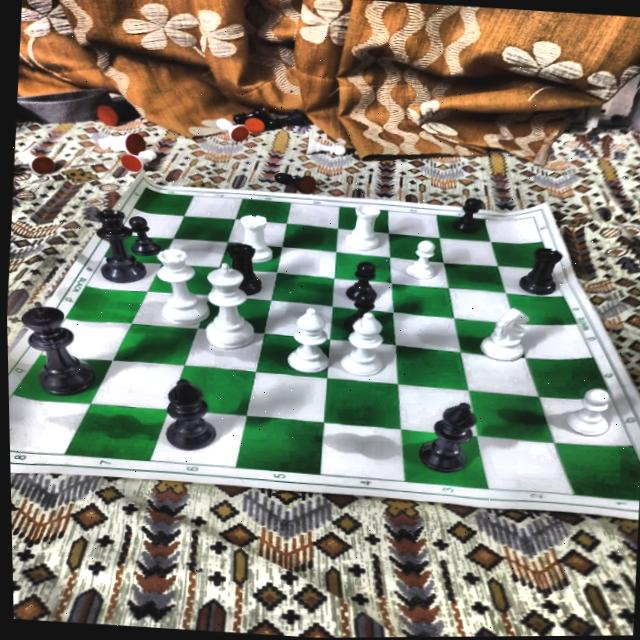BlackBishop: (415, 399, 478, 475), (161, 375, 222, 453)
BlackKing: (17, 300, 103, 399)
BlackPawn: (342, 290, 383, 335), (127, 214, 163, 257), (344, 260, 379, 302), (451, 195, 482, 234)
BlackQueen: (89, 207, 152, 285)
BlackRook: (221, 241, 265, 296), (518, 246, 564, 297)
WhiteBishop: (284, 305, 333, 374), (338, 310, 388, 377)
WhiteKing: (199, 259, 260, 351)
WhiteKnight: (477, 304, 530, 364)
WhitePawn: (565, 384, 613, 438), (404, 238, 440, 280)
WhiteQueen: (150, 246, 214, 327)
WhiteRook: (235, 213, 276, 264), (344, 203, 383, 251)
